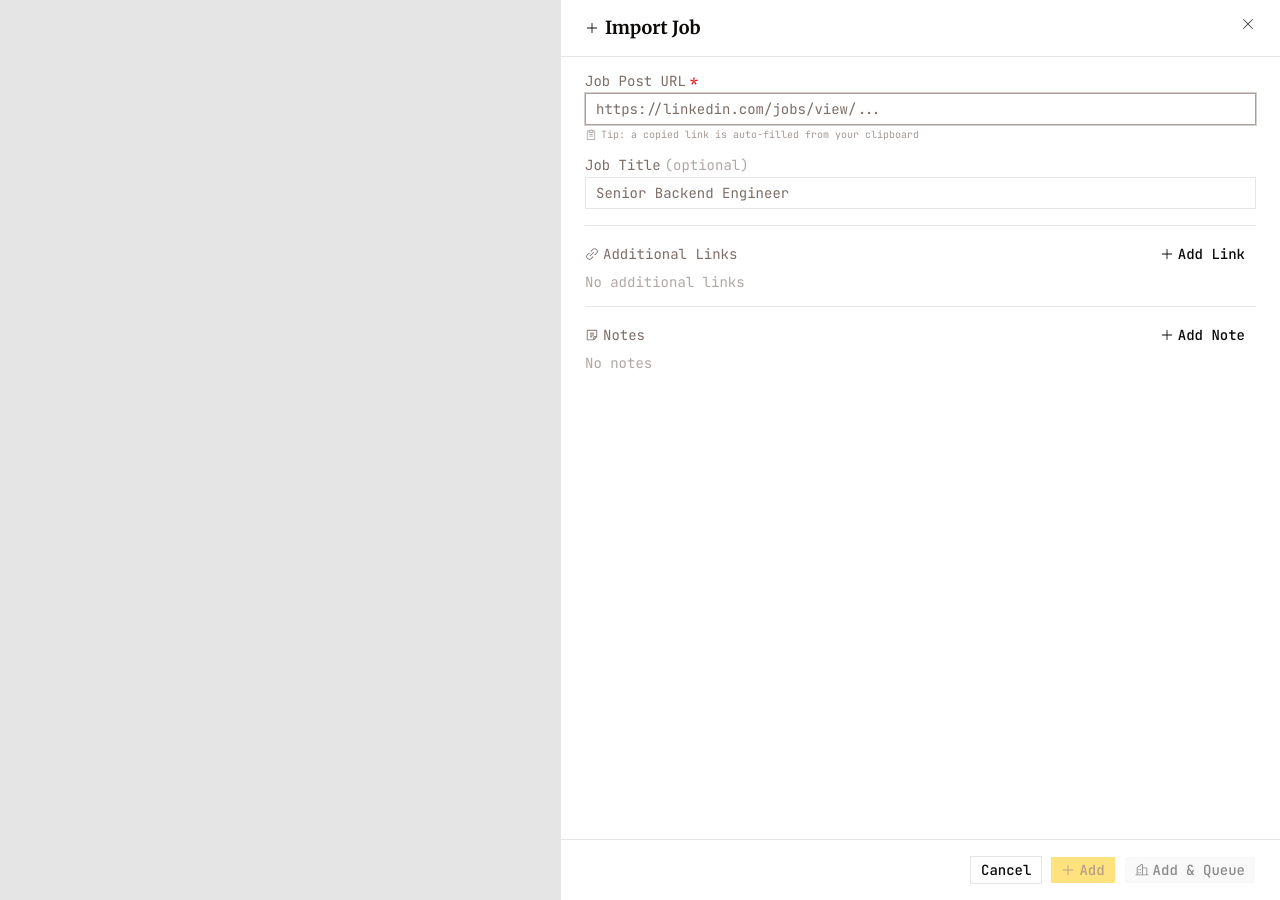
Test: CreateEntityDrawer — job mode › disables submit until a valid URL is entered
Expected: the button "Add" is disabled, [1050,856,1116,884]
Expected: the button "Add & Queue" is disabled, [1124,856,1256,884]
Type "https://example.com/job" into the field with placeholder "https://linkedin.com/jobs/view/..." at (920, 109), box [585,93,1256,125]
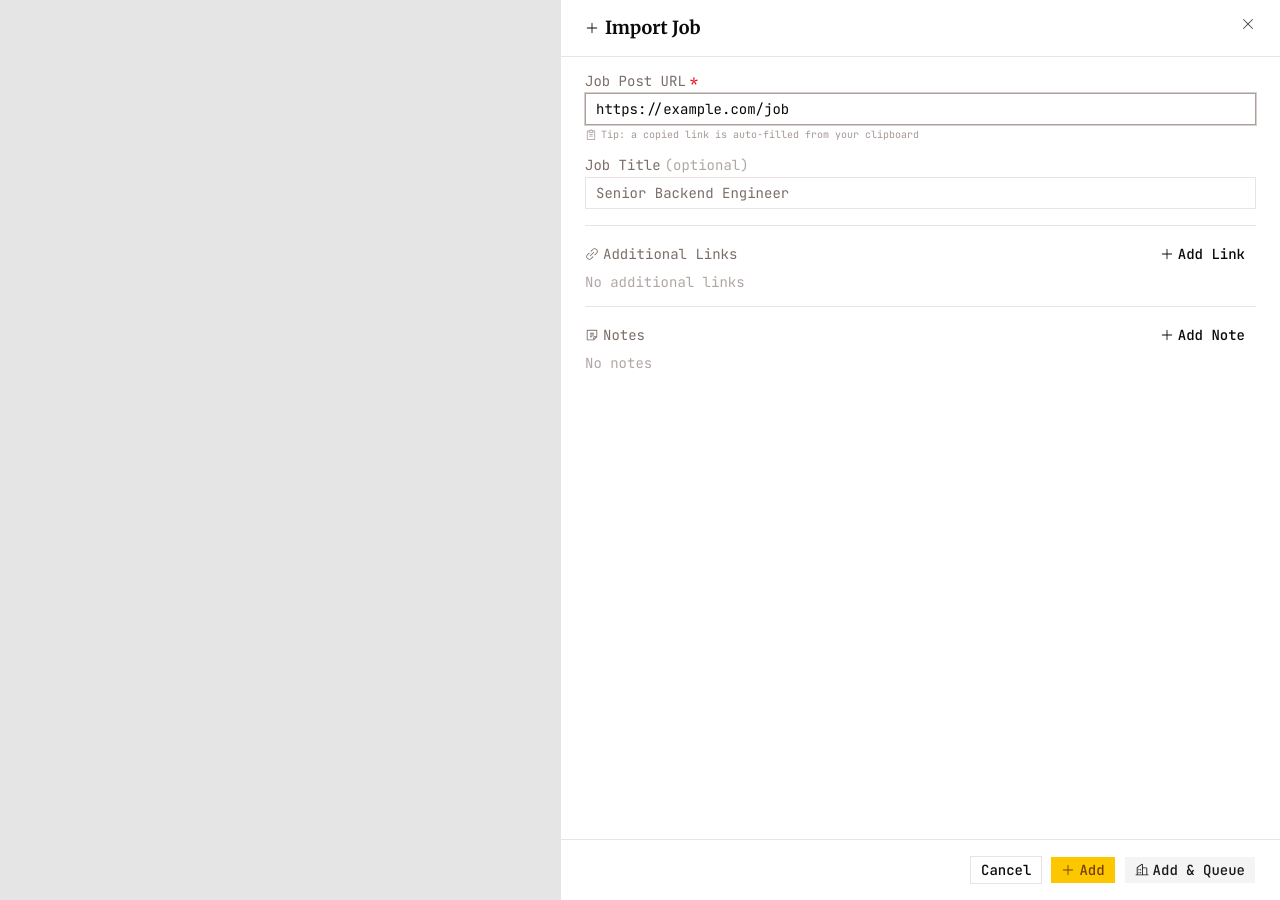
Now the button "Add" is enabled, box [1050,856,1116,884]
Now the button "Add & Queue" is enabled, box [1124,856,1256,884]
